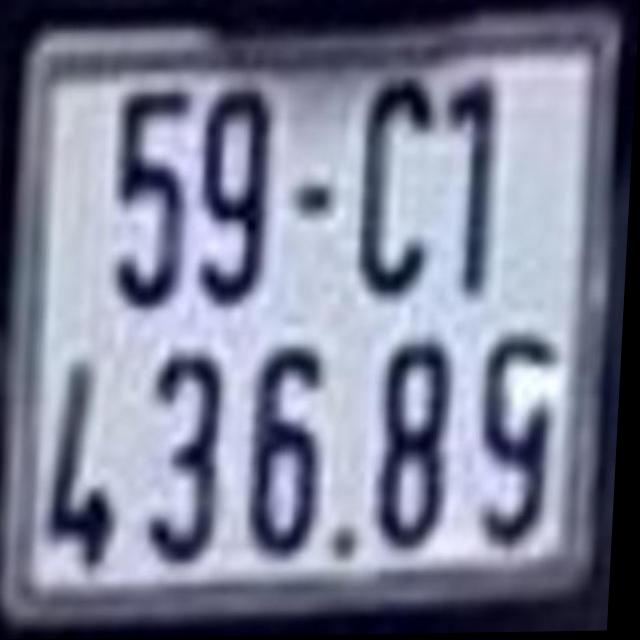1: (448, 81, 508, 294)
3: (143, 350, 226, 560)
4: (52, 359, 136, 561)
5: (115, 91, 189, 308)
6: (252, 342, 331, 556)
8: (386, 342, 453, 538)
9: (195, 88, 272, 309), (486, 335, 562, 543)
C: (356, 87, 440, 289)
